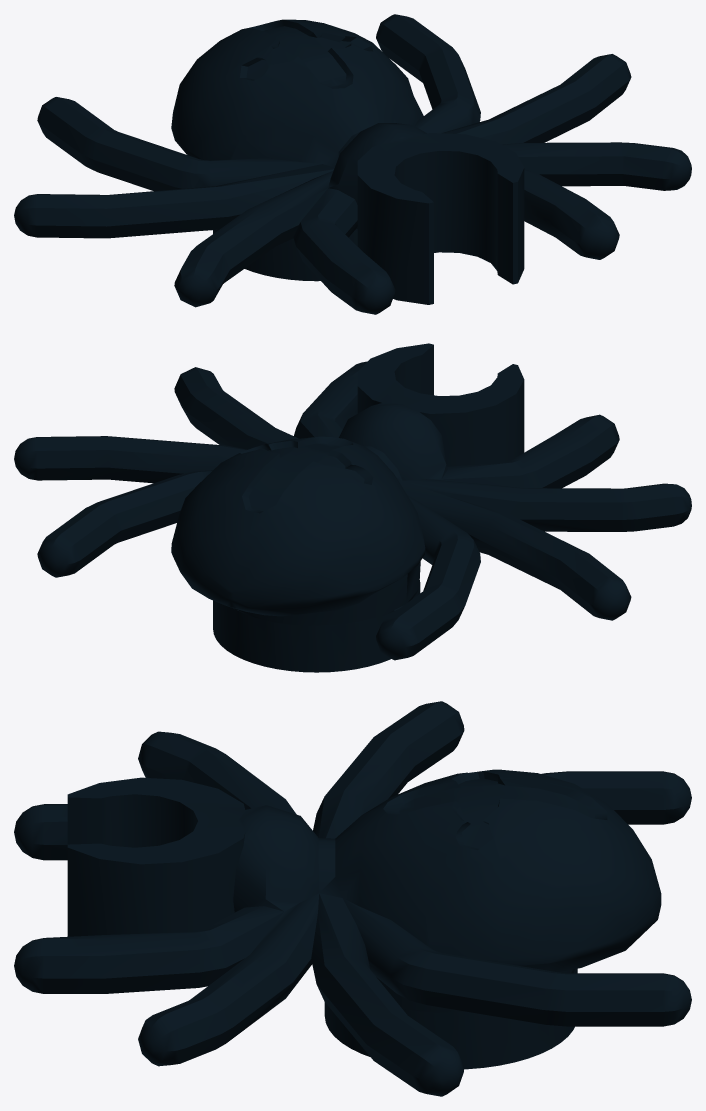
Rendered from spider2.dae.
3 views of the same model, one above another, from view 1: azimuth 30°, elevation 25°; view 2: azimuth 150°, elevation 25°; view 3: azimuth 270°, elevation 25° (orthographic). The views are drawn at different scales.
Visible parts, largest first — view 1: Inner-Node-UntitledModel_dot_io-0; view 2: Inner-Node-UntitledModel_dot_io-0; view 3: Inner-Node-UntitledModel_dot_io-0.
Boxes of the visible parts, left/top/right/bottom form: Inner-Node-UntitledModel_dot_io-0: left=14, top=14, right=691, bottom=314; Inner-Node-UntitledModel_dot_io-0: left=14, top=343, right=691, bottom=672; Inner-Node-UntitledModel_dot_io-0: left=14, top=701, right=691, bottom=1096.
Size of the model in its own units: 54.17 by 15.78 by 42.62.
